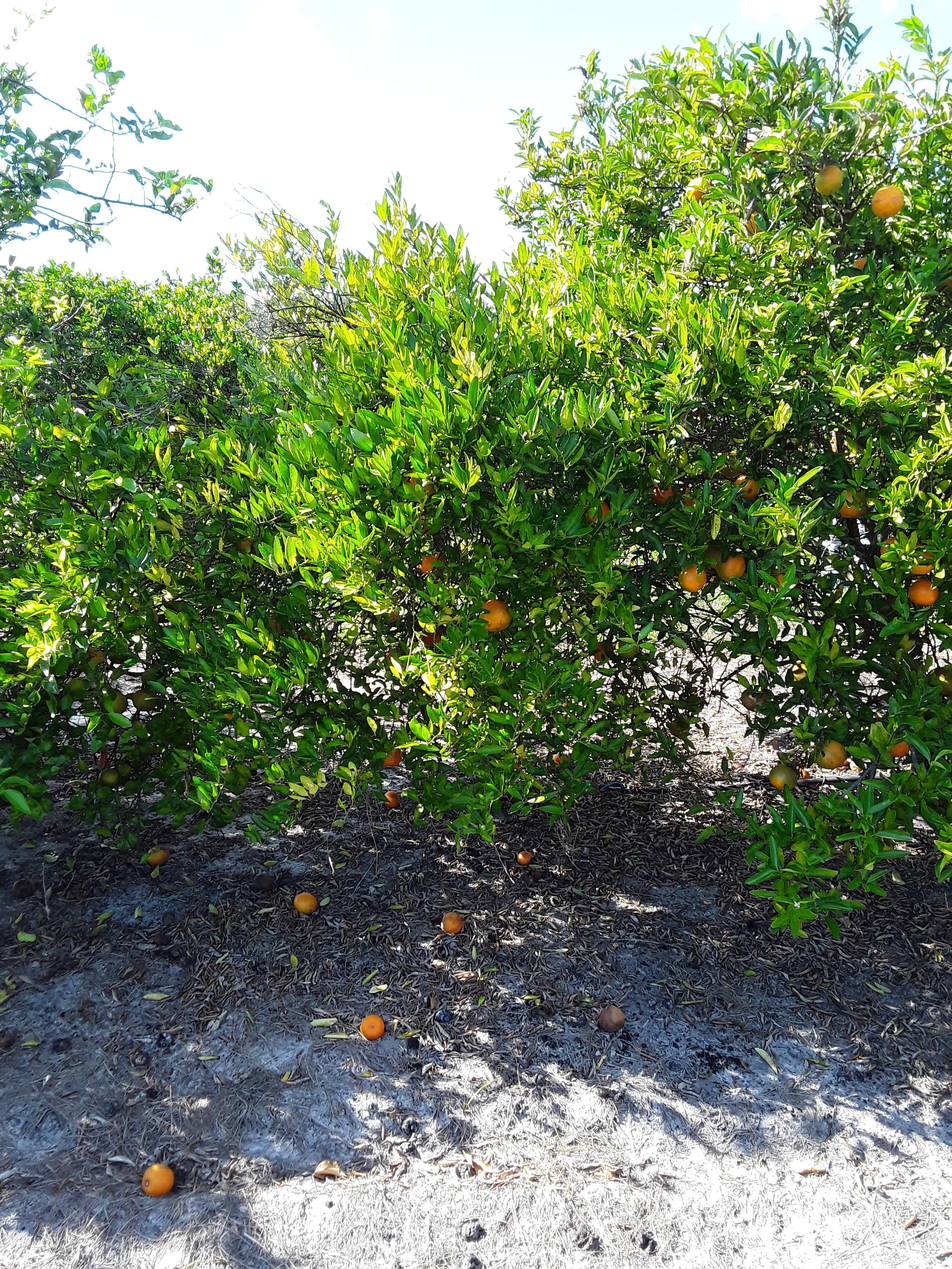fruit_on_ground: (404, 470, 446, 502), (907, 541, 939, 578), (878, 532, 909, 569), (876, 185, 906, 222), (583, 495, 614, 530), (714, 447, 747, 478), (784, 659, 818, 689), (413, 506, 444, 538), (912, 579, 940, 612), (483, 600, 510, 634), (75, 643, 110, 669), (684, 175, 714, 205), (818, 738, 847, 769), (931, 664, 952, 706), (671, 484, 700, 514), (817, 164, 843, 196), (774, 759, 798, 793), (99, 690, 129, 717), (682, 562, 708, 593), (229, 529, 263, 552), (738, 688, 769, 713), (744, 138, 772, 165), (723, 554, 749, 583), (210, 698, 239, 724), (133, 688, 160, 714), (96, 766, 126, 789), (418, 551, 449, 573), (793, 241, 819, 267), (843, 493, 866, 522), (614, 636, 643, 659), (264, 609, 287, 636), (385, 654, 406, 683), (592, 639, 616, 664), (654, 487, 677, 512), (740, 481, 761, 506), (158, 790, 186, 808), (292, 626, 318, 645), (668, 718, 692, 738), (890, 737, 911, 759), (770, 564, 790, 587), (381, 601, 401, 624), (382, 750, 401, 774), (935, 269, 952, 295), (167, 421, 187, 442), (552, 753, 570, 773), (189, 640, 210, 657), (743, 214, 760, 235), (852, 254, 871, 272), (383, 788, 399, 809), (422, 631, 438, 648)
fruit_on_tree: (140, 1162, 175, 1201), (596, 1004, 626, 1035), (359, 1012, 385, 1044), (441, 910, 468, 937), (292, 891, 319, 917), (246, 874, 279, 895), (11, 877, 38, 900), (145, 843, 169, 865), (682, 688, 704, 705), (516, 849, 534, 867)
